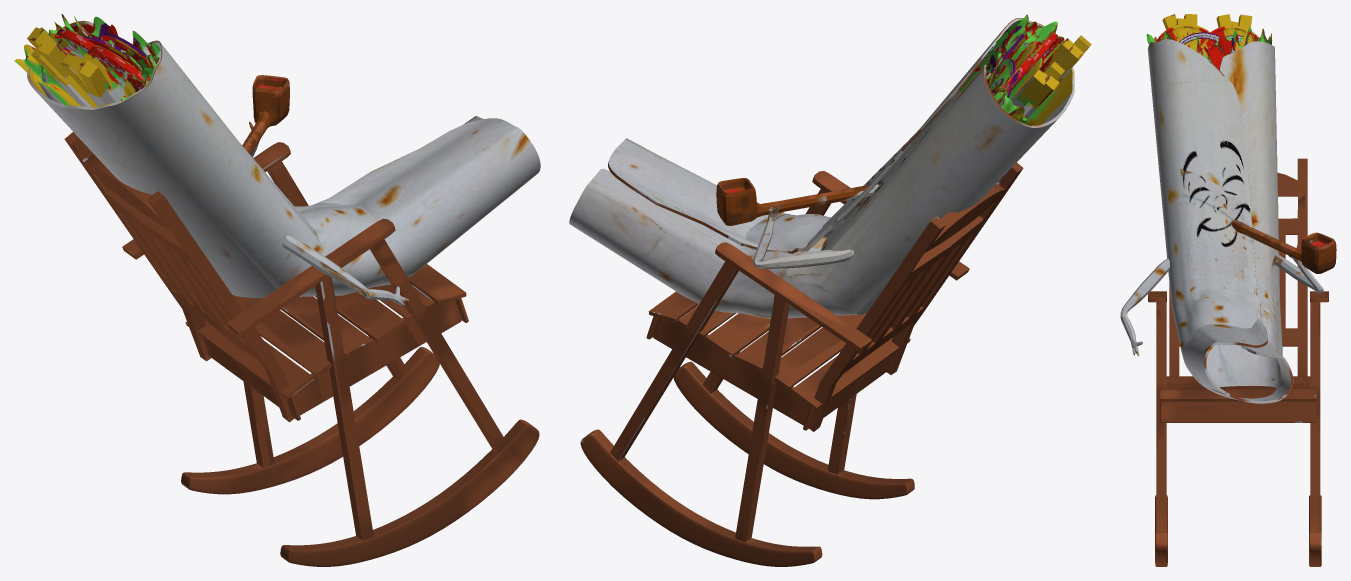
Rendered from tito.glb.
The picture shows the model from 3 angles, left to right: view 1: azimuth 30°, elevation 25°; view 2: azimuth 150°, elevation 25°; view 3: azimuth 270°, elevation 25°; orthographic projection. The views are drawn at different scales.
Bounding box in the file's own units: 0.6201 × 0.6737 × 0.3016.
1 material, 1 textured.
